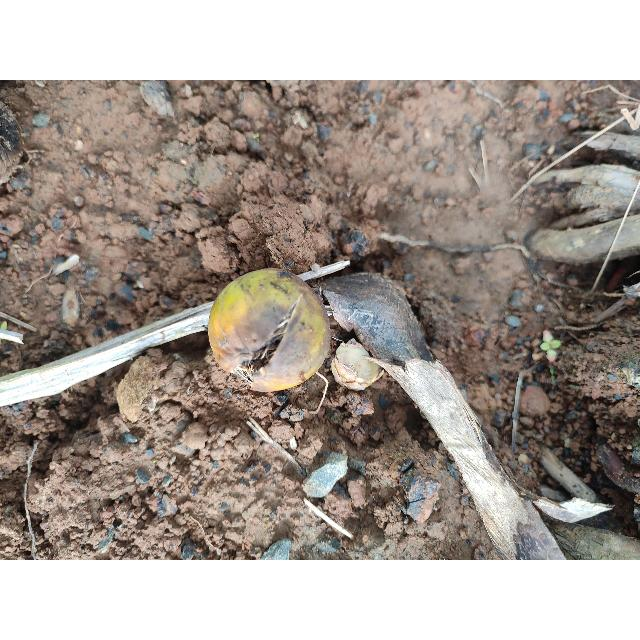damaged: (206, 270, 335, 394)
